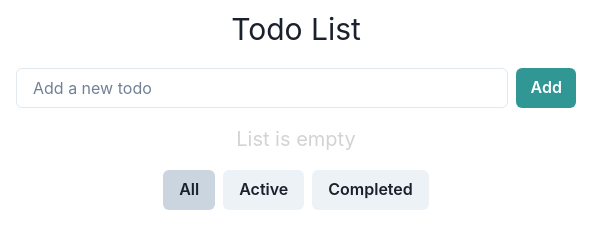
Test: TodoApp › deletes a todo
In the field with placeholder "Add a new todo": (262, 88) [16,68,508,108], type "Todo to be deleted"
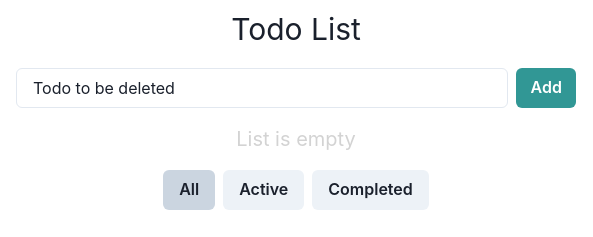
Click the button "Add": (546, 88) [516,68,576,108]
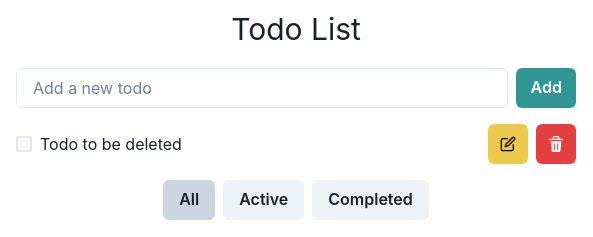
Check: the text "Todo to be deleted" is shown, box [40,134,182,154]
Click the delete button
Click the button named "delete": (556, 144) [536,124,576,164]
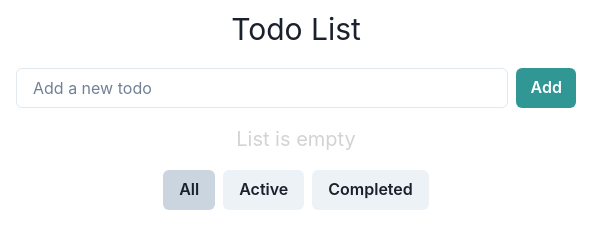
Check: the text "Todo to be deleted" is gone
